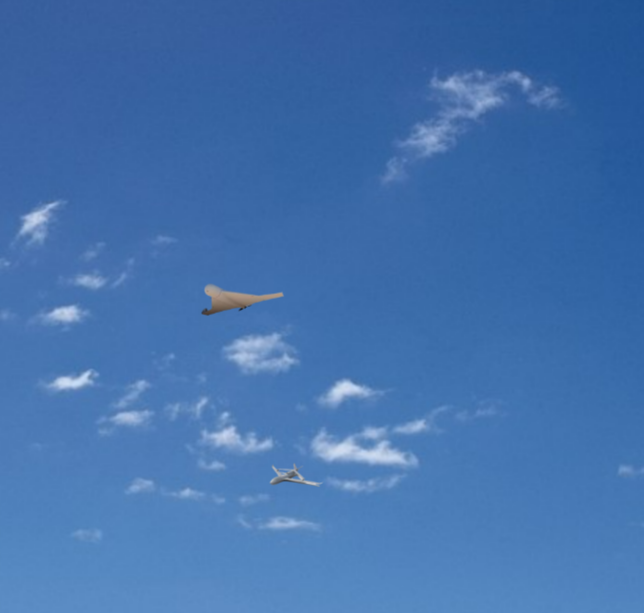military drone: (200, 283, 284, 316), (269, 463, 323, 487)
